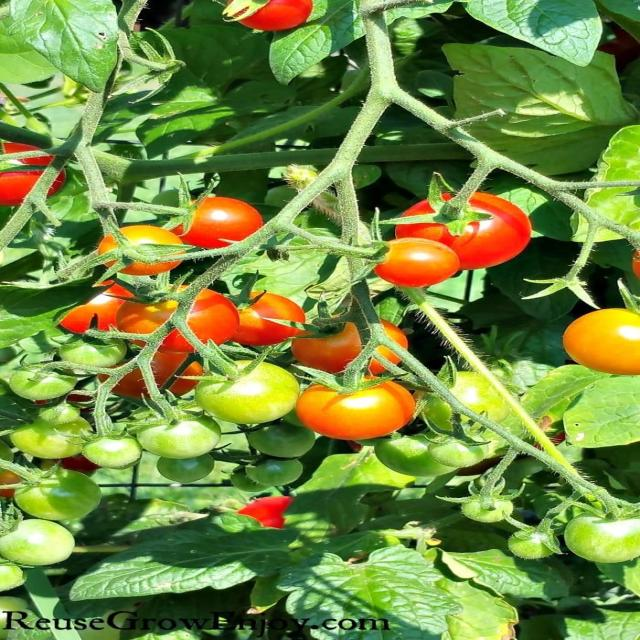level 1: (136, 410, 221, 460), (0, 519, 75, 565), (245, 424, 316, 458), (83, 432, 143, 469), (435, 432, 489, 469), (244, 458, 302, 488), (458, 494, 514, 523), (158, 454, 212, 483), (508, 529, 560, 559)
level 2: (434, 370, 539, 437), (193, 360, 301, 424), (16, 468, 101, 522), (565, 512, 640, 566), (10, 412, 90, 461)
level 4: (296, 376, 416, 442), (291, 314, 406, 379), (561, 309, 640, 376), (98, 226, 185, 276)
level 5: (113, 286, 237, 352), (172, 197, 262, 248), (218, 292, 303, 346), (371, 238, 458, 288)
level 6: (397, 192, 532, 270), (0, 142, 65, 216)
